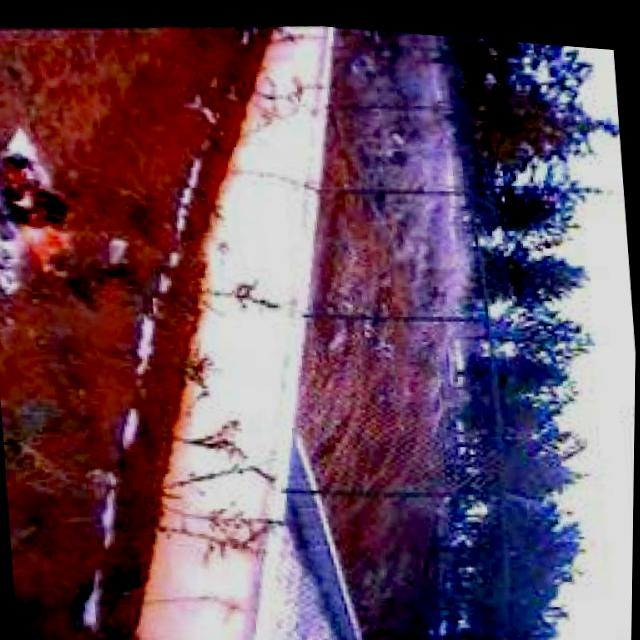Fire: (0, 142, 86, 289)
